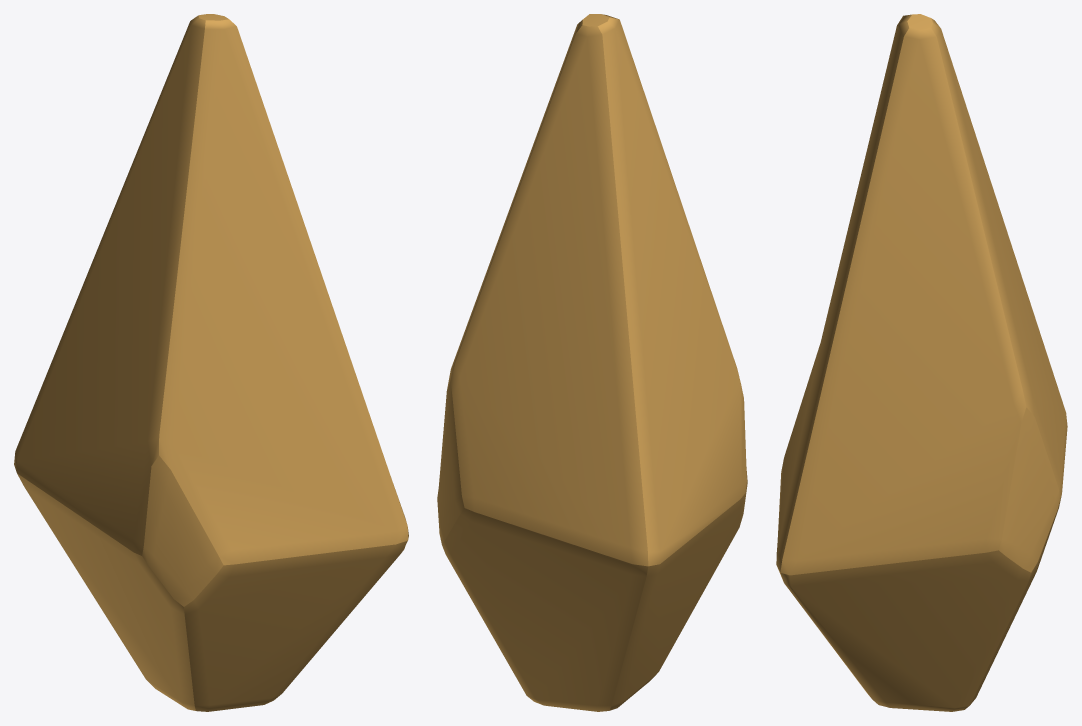
The model's file is Crystal_Jagged_fbx.fbx.
3 renders of one model, left to right at view 1: azimuth 30°, elevation 25°; view 2: azimuth 150°, elevation 25°; view 3: azimuth 270°, elevation 25°, orthographic. The views are drawn at different scales.
Parts seen in each view (by area): view 1: Crystal_Jagged_LOD0; view 2: Crystal_Jagged_LOD0; view 3: Crystal_Jagged_LOD0.
Part boxes in pixels (x1,y1,x2,y2): Crystal_Jagged_LOD0: [14, 14, 408, 711]; Crystal_Jagged_LOD0: [437, 14, 747, 711]; Crystal_Jagged_LOD0: [776, 14, 1067, 711].
Size of the model in its own units: 24.32 by 61.4 by 24.02.
